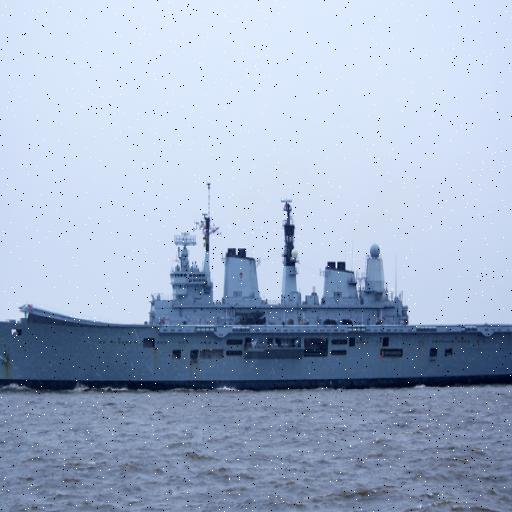Portanaves: (1, 179, 512, 396)
